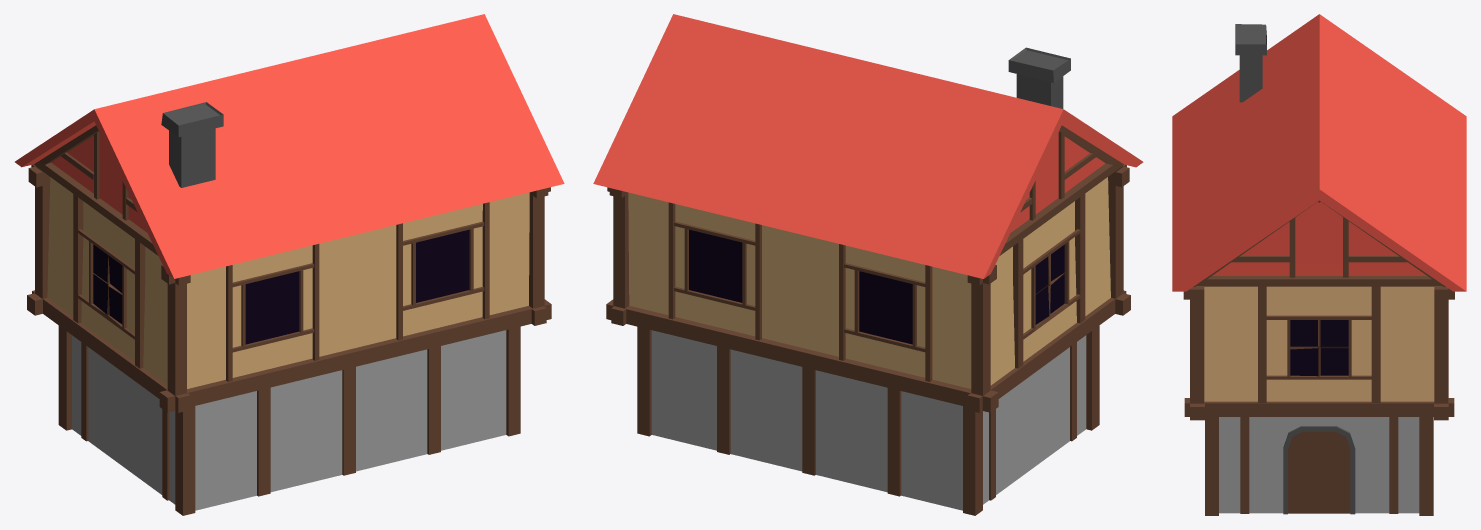
File: House_middle.fbx
3 views of the same model, side by side, from view 1: azimuth 30°, elevation 25°; view 2: azimuth 150°, elevation 25°; view 3: azimuth 270°, elevation 25° (orthographic). The views are drawn at different scales.
Parts seen in each view (by area): view 1: House_middle; view 2: House_middle; view 3: House_middle.
Part boxes in pixels (box(x1,y1,x2,y2)): House_middle: box(15, 14, 564, 515); House_middle: box(593, 14, 1143, 515); House_middle: box(1172, 14, 1466, 515).
Bounding box in the file's own units: 47.65 × 43.81 × 33.84.
